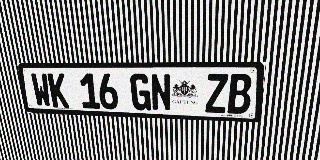1: (78, 73, 100, 109)
6: (97, 73, 119, 110)
B: (227, 74, 252, 114)
G: (130, 73, 151, 111)
K: (47, 73, 69, 108)
N: (150, 74, 171, 111)
W: (30, 73, 52, 107)
Z: (205, 74, 228, 113)
